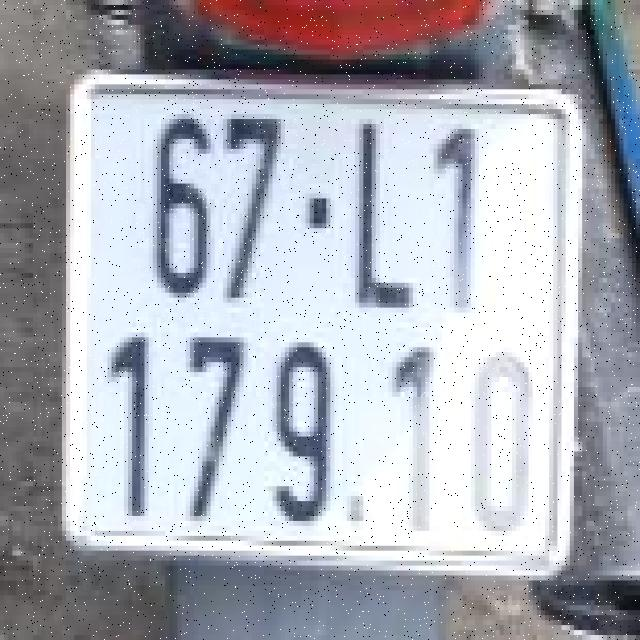0: (454, 332, 549, 541)
1: (429, 114, 492, 318), (394, 330, 444, 558), (114, 315, 159, 538)
6: (138, 99, 217, 308)
7: (184, 317, 250, 531), (223, 94, 285, 303)
9: (262, 337, 349, 526)
L: (343, 122, 421, 320)
